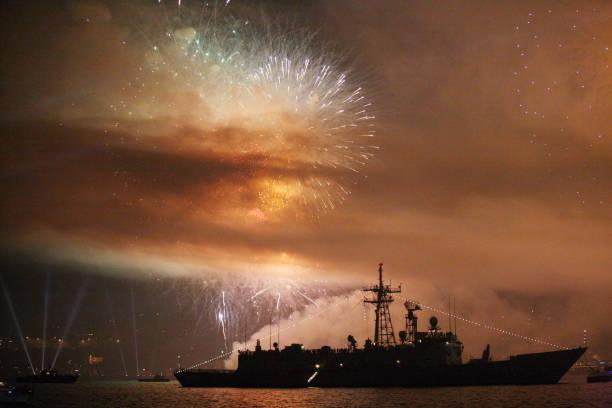MIL_Ship: (175, 264, 587, 391)
